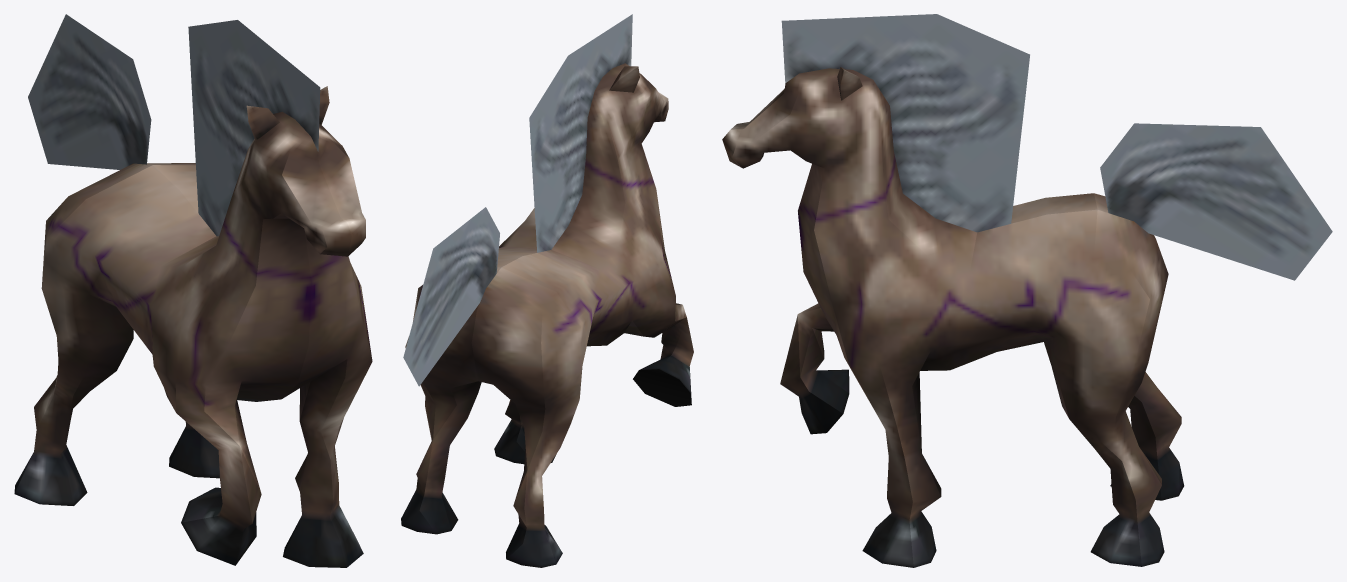
The model's file is poni.fbx.
3 views of the same model, side by side, from view 1: azimuth 30°, elevation 25°; view 2: azimuth 150°, elevation 25°; view 3: azimuth 270°, elevation 25° (orthographic). The views are drawn at different scales.
Visible parts, largest first — view 1: s4studio_mesh_1; view 2: s4studio_mesh_1; view 3: s4studio_mesh_1.
Part boxes in pixels (<box>): s4studio_mesh_1: <box>14,14,372,567</box>; s4studio_mesh_1: <box>401,14,693,567</box>; s4studio_mesh_1: <box>722,14,1332,567</box>.
Size of the model in its own units: 8.59 by 20.34 by 22.28.
Materials: 1 (1 with a texture image).
